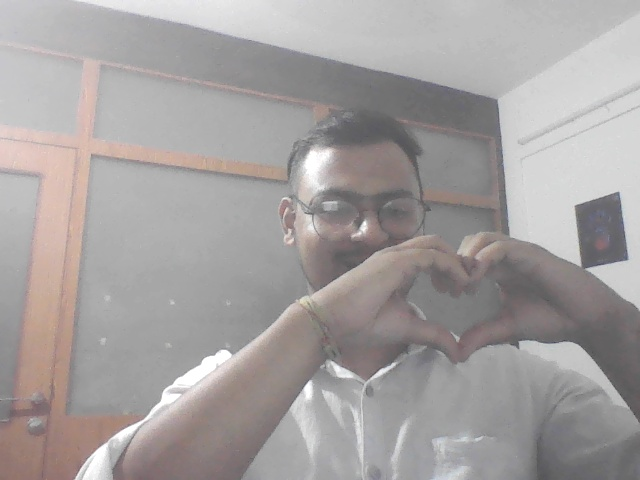Heart: (339, 227, 579, 361)
